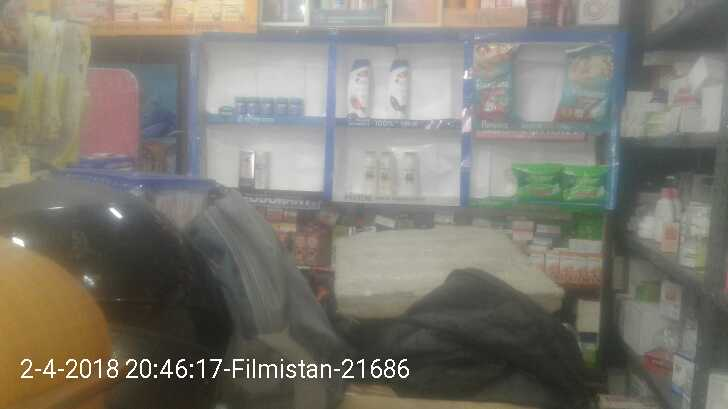vicks: (231, 94, 306, 117)
